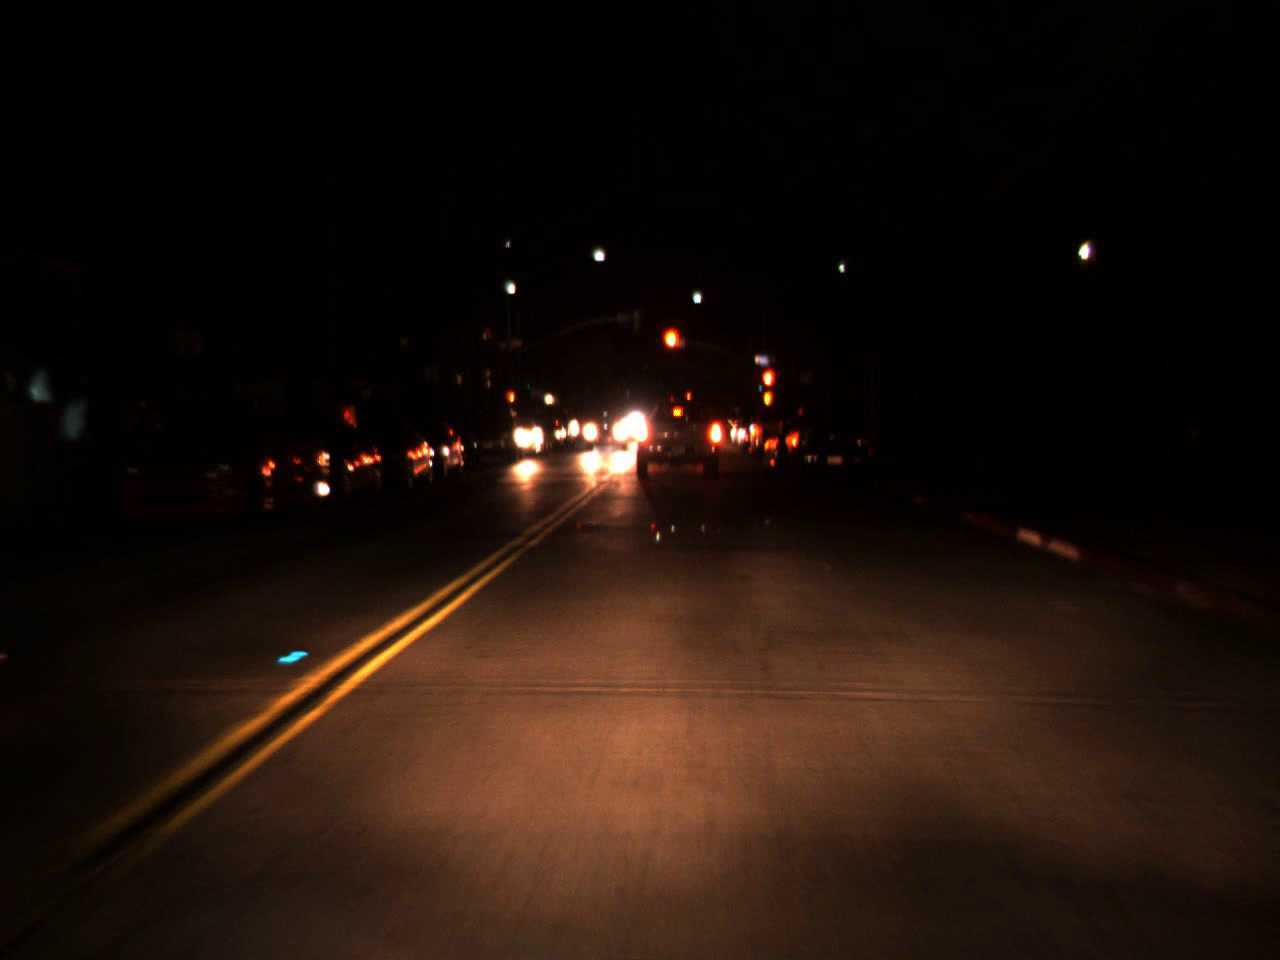stop: (660, 324, 684, 375), (760, 366, 776, 409)
